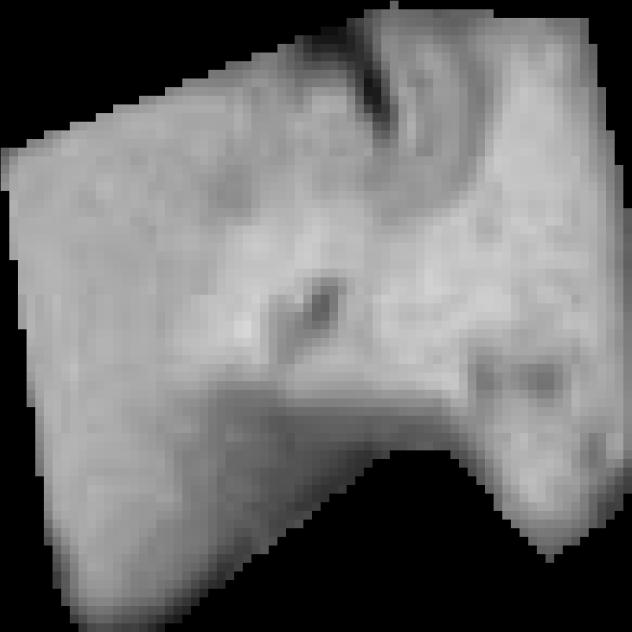tumor_good_chance: (1, 1, 632, 632)
